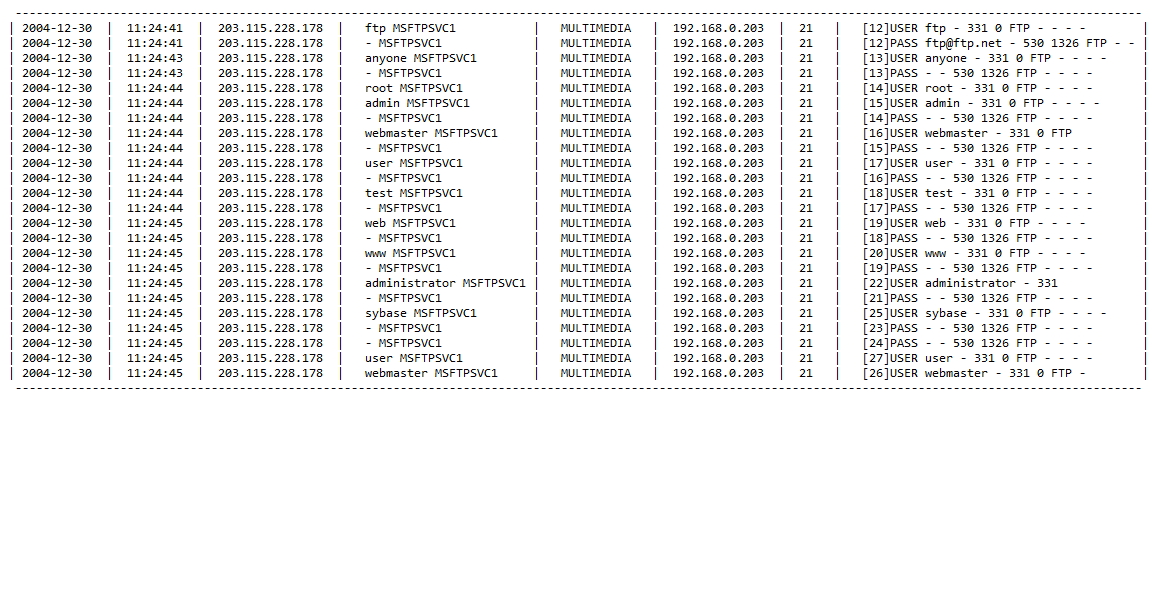table: (6, 10, 1153, 394)
